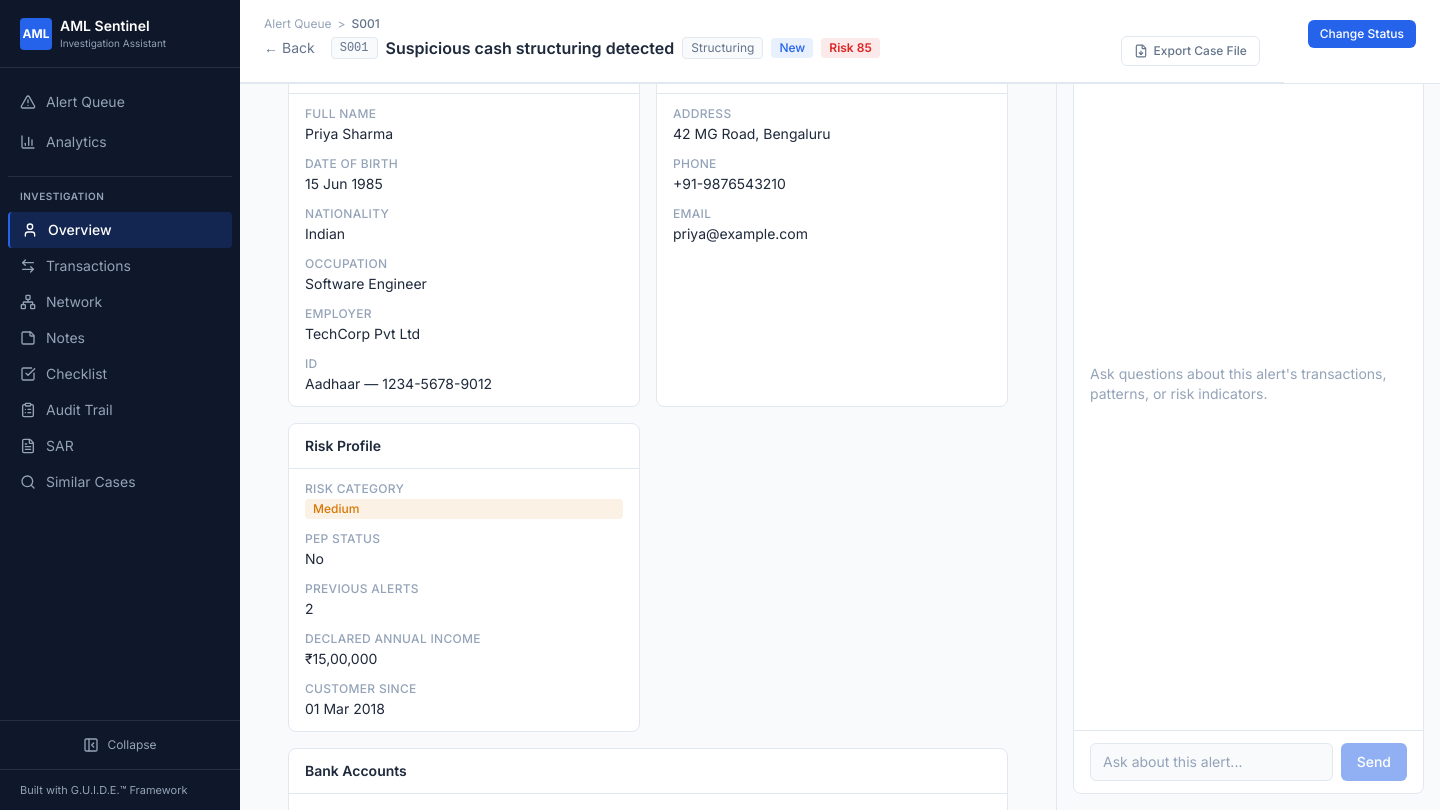
Test case: InvestigationPage › renders SimilarCases component when that section is active
The image size is (1440, 810).
(page scrolled)
Check: the heading "Suspicious cash structuring detected" is shown, box x1=386 y1=36 x2=674 y2=60
Click the button labelled "Similar Cases". click: (120, 482)
box: x1=8 y1=464 x2=232 y2=500
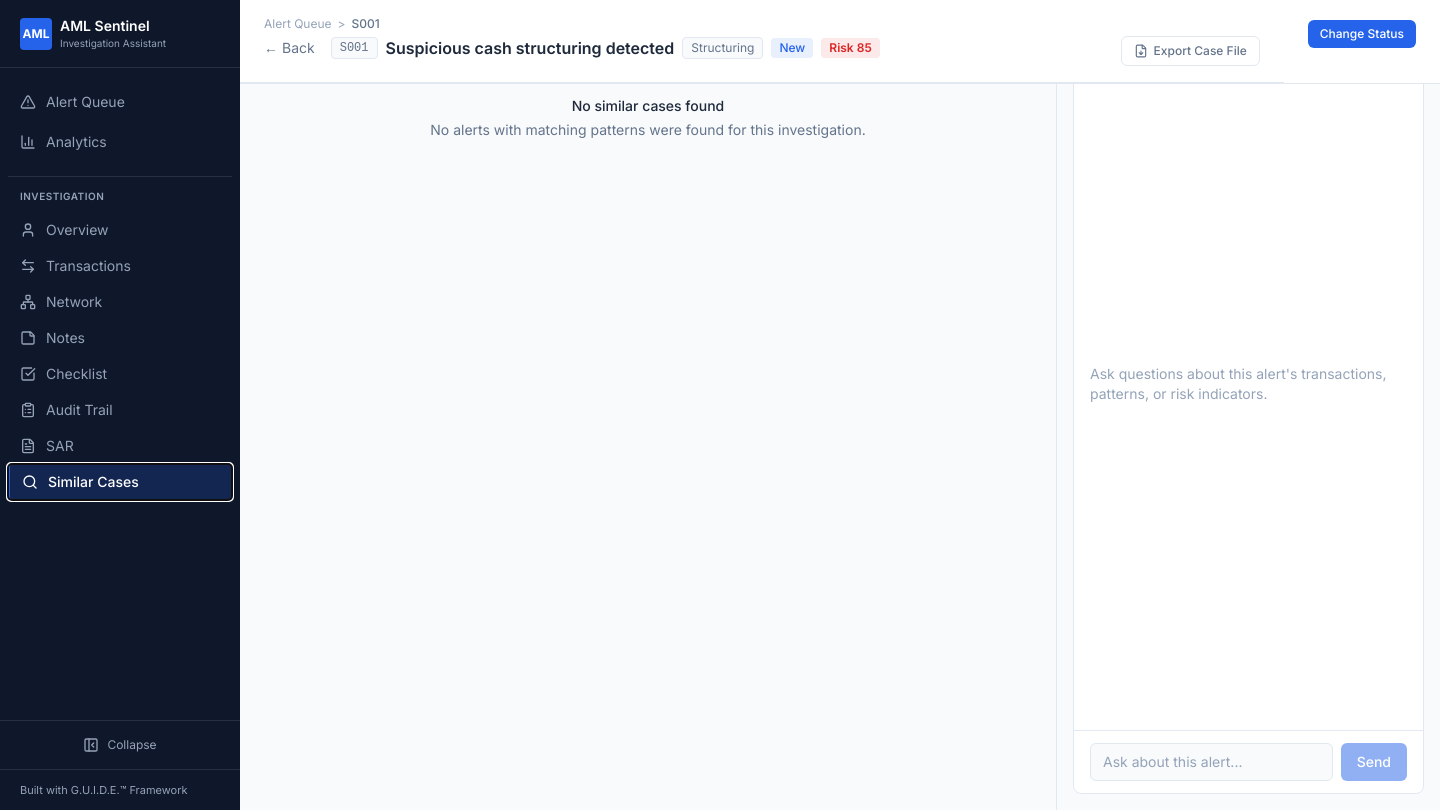
Check: the heading "No similar cases found" is shown, box x1=572 y1=96 x2=724 y2=116
